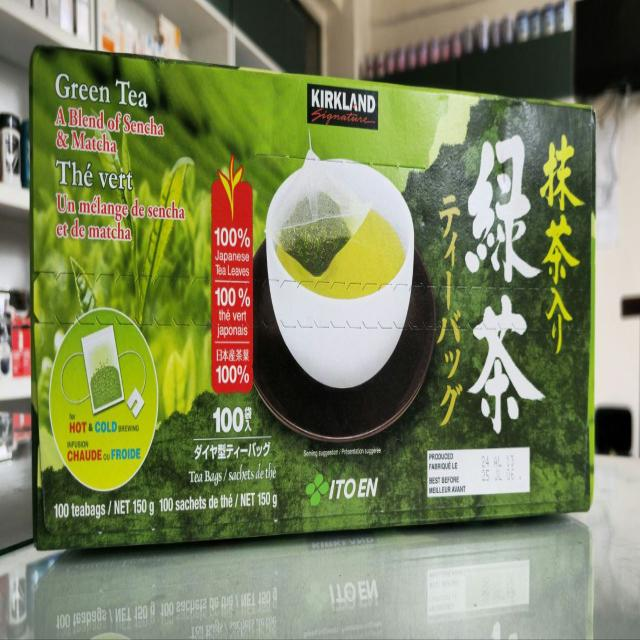food-package: (30, 71, 592, 533)
